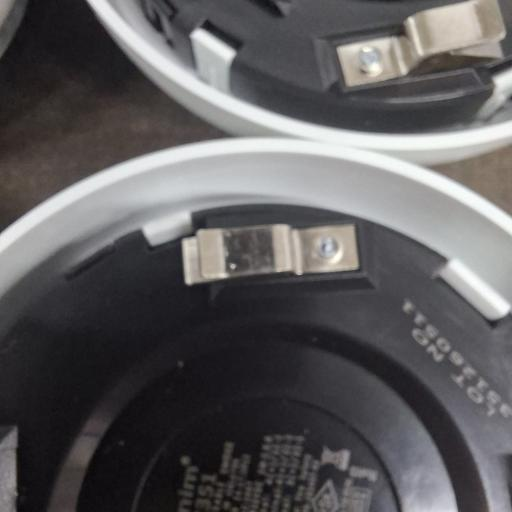yayli: (333, 0, 506, 91), (181, 220, 362, 285)
